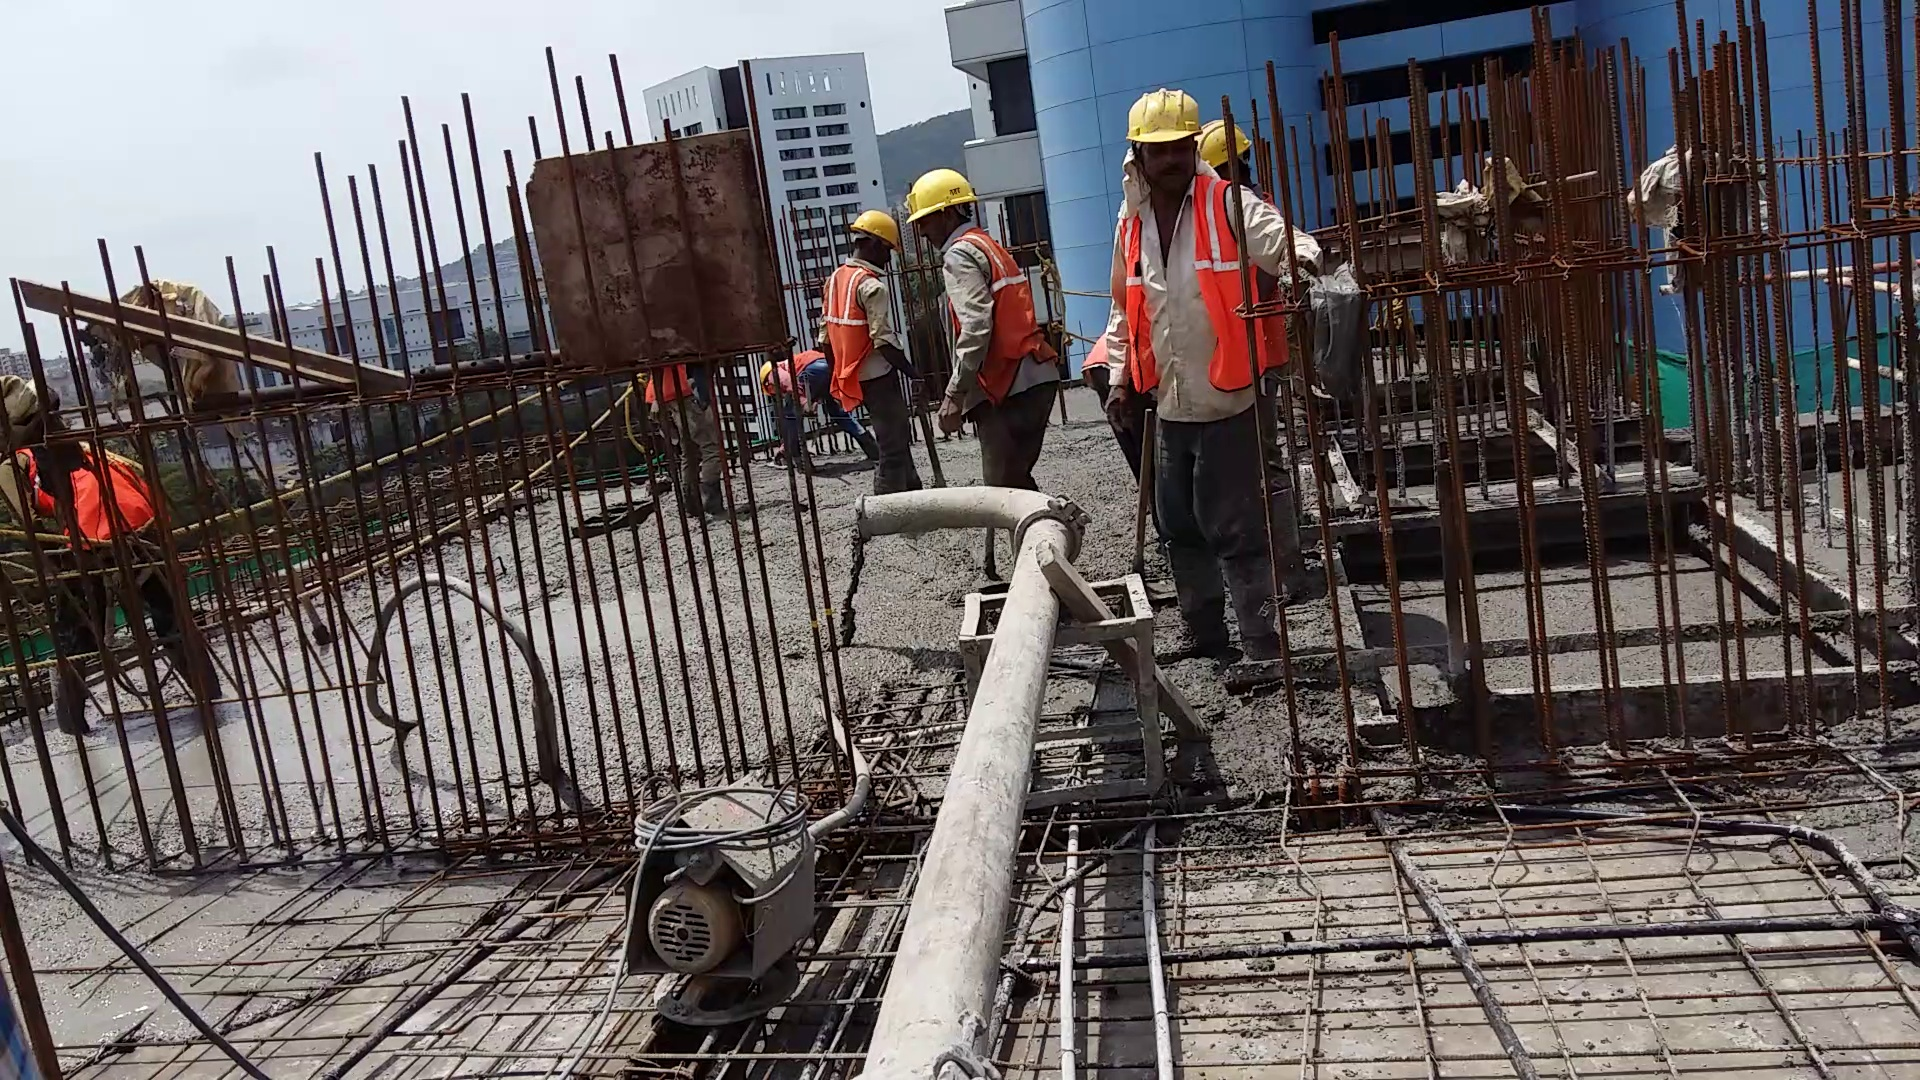SAFE: (1116, 84, 1244, 415), (905, 164, 1051, 409), (822, 207, 905, 398)
